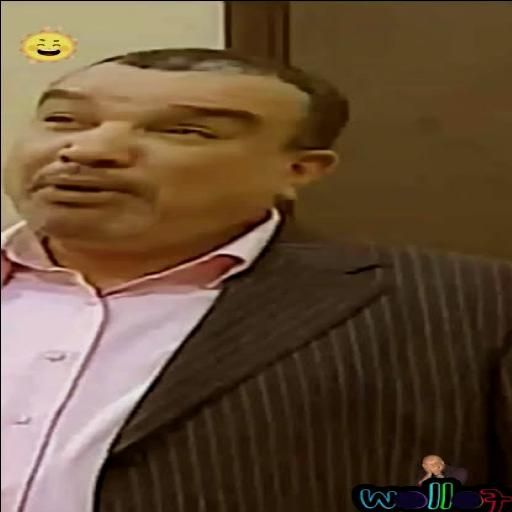slimane: (19, 48, 347, 252)
